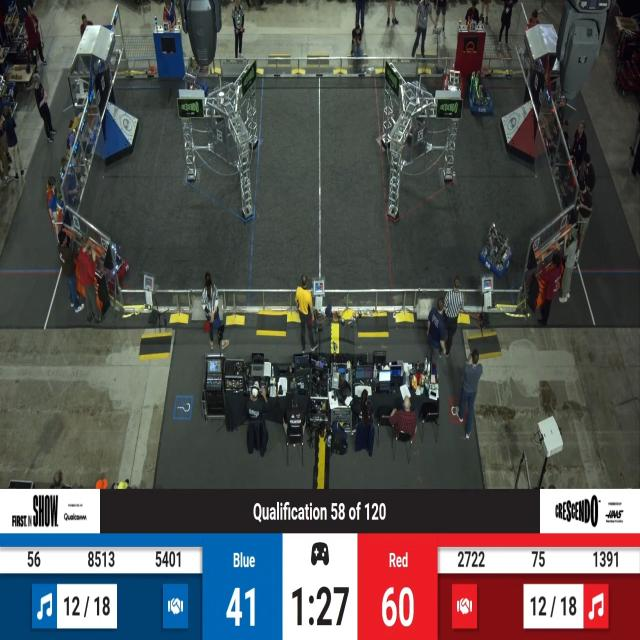Robot: (94, 224, 136, 296), (479, 221, 513, 279), (175, 53, 204, 111), (466, 72, 494, 118), (441, 61, 465, 100)
